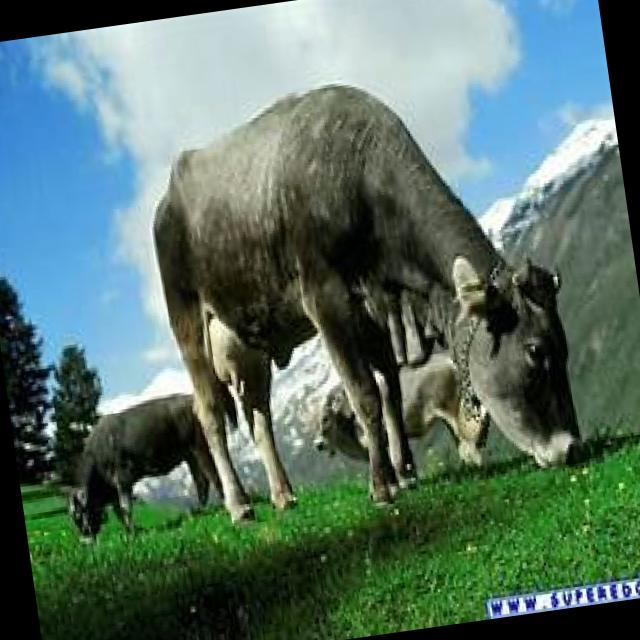animal: (133, 54, 590, 532), (52, 386, 228, 549)
